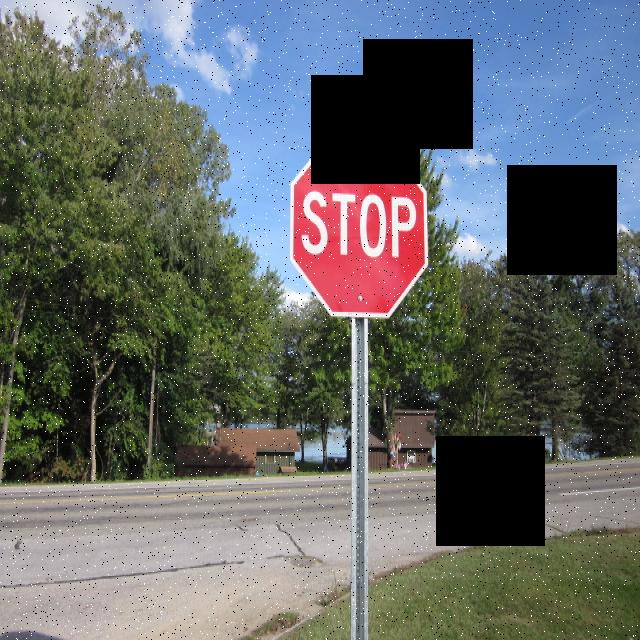stop: (286, 122, 436, 328)
